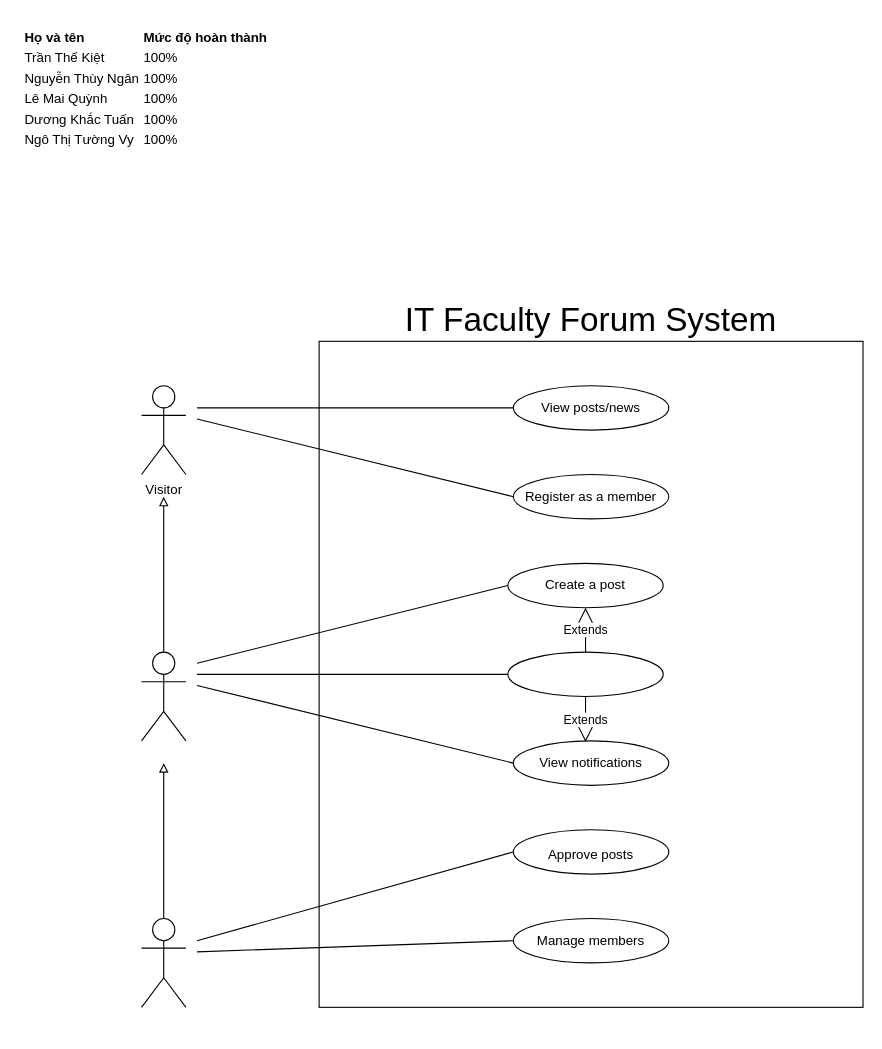
Some shapes in this 882 by 1049 pixel diagram are drawn without their labels. Each missing label, with the centre of its shape:
"Administrator" belongs at (x=163, y=962).
"Log in" belongs at (x=585, y=674).
"Member" belongs at (x=163, y=696).
